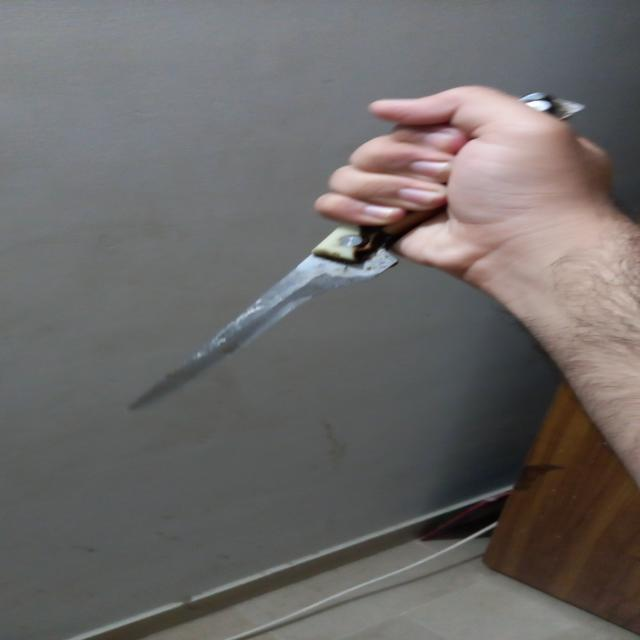knife: (89, 206, 434, 438)
